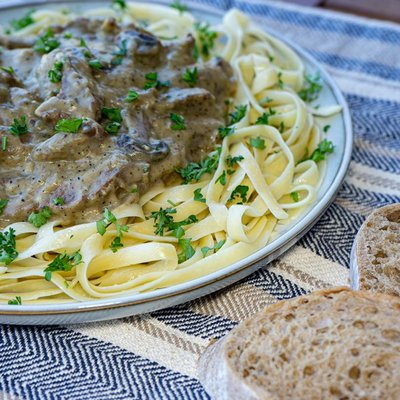curry: (0, 226, 19, 267)
soup: (223, 285, 400, 400)
sushi: (0, 1, 361, 311)
